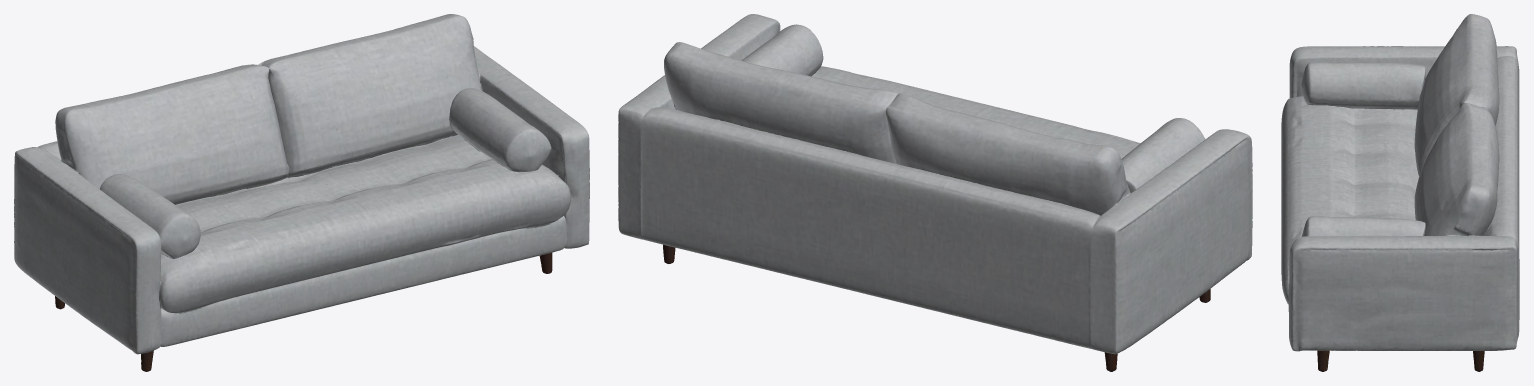
File: sofa.glb
3 renders of one model, left to right at view 1: azimuth 30°, elevation 25°; view 2: azimuth 150°, elevation 25°; view 3: azimuth 270°, elevation 25°, orthographic. The views are drawn at different scales.
Parts seen in each view (by area): view 1: geometry_0; view 2: geometry_0; view 3: geometry_0.
Part boxes in pixels (box(x1,y1,x2,y2)): geometry_0: box(14, 14, 589, 371); geometry_0: box(618, 14, 1252, 371); geometry_0: box(1281, 14, 1519, 371).
Size of the model in its own units: 0.9995 by 0.412 by 0.49.
Materials: 1 (1 with a texture image).
